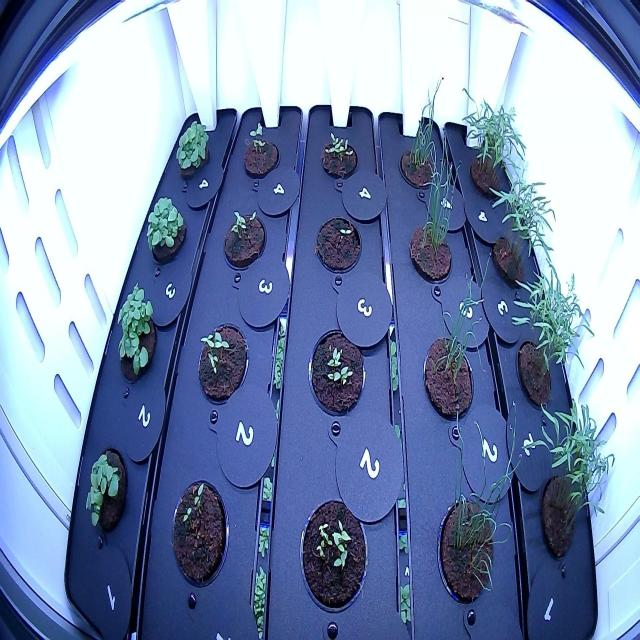germination: (291, 491, 372, 624), (164, 472, 234, 597), (303, 322, 372, 428), (190, 316, 253, 412), (308, 207, 366, 284), (220, 203, 270, 277), (314, 124, 364, 189), (238, 116, 283, 186)
